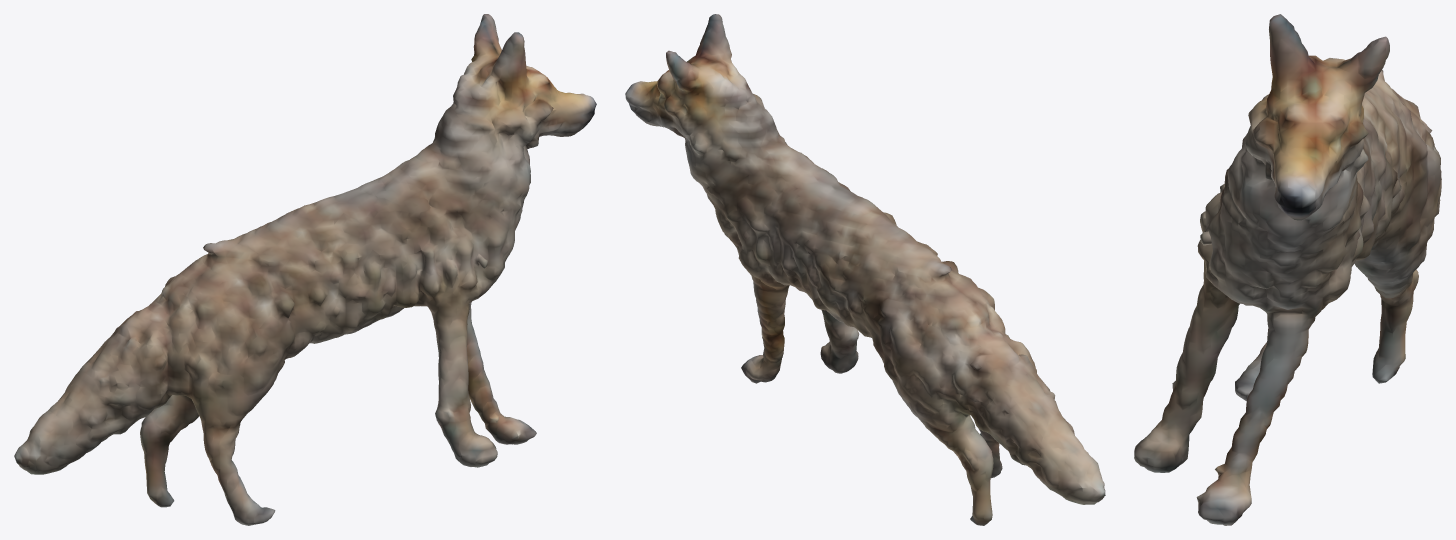
The model's file is red-fox.glb.
3 renders of one model, left to right at view 1: azimuth 30°, elevation 25°; view 2: azimuth 150°, elevation 25°; view 3: azimuth 270°, elevation 25°, orthographic. The views are drawn at different scales.
Parts seen in each view (by area): view 1: world; view 2: world; view 3: world.
Boxes of the visible parts, x1,y1,x2,y2 form: world: [14, 14, 596, 525]; world: [625, 14, 1105, 525]; world: [1134, 14, 1441, 525].
Size of the model in its own units: 0.9263 by 0.702 by 0.3428.
